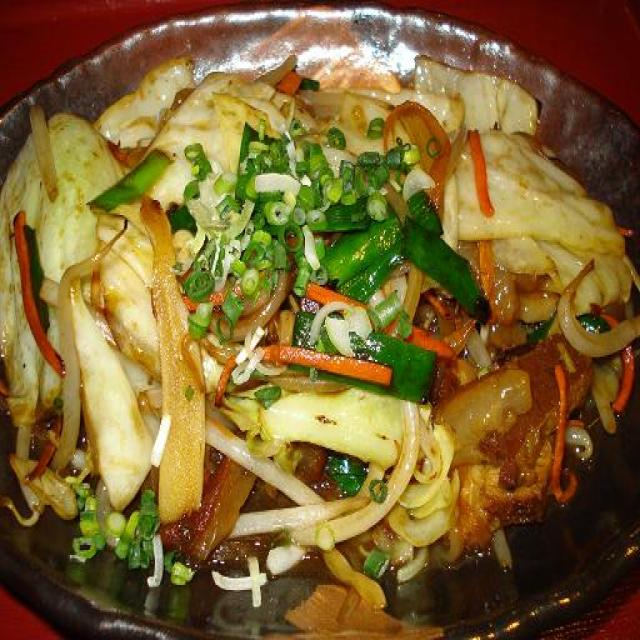蔬菜料理: (0, 62, 640, 603)
